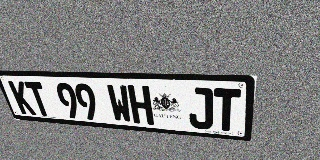9: (54, 82, 82, 119), (73, 83, 101, 120)
H: (127, 85, 154, 125)
J: (188, 87, 213, 130)
K: (8, 81, 37, 115)
T: (214, 88, 241, 132), (24, 81, 53, 117)
W: (106, 84, 133, 123)
